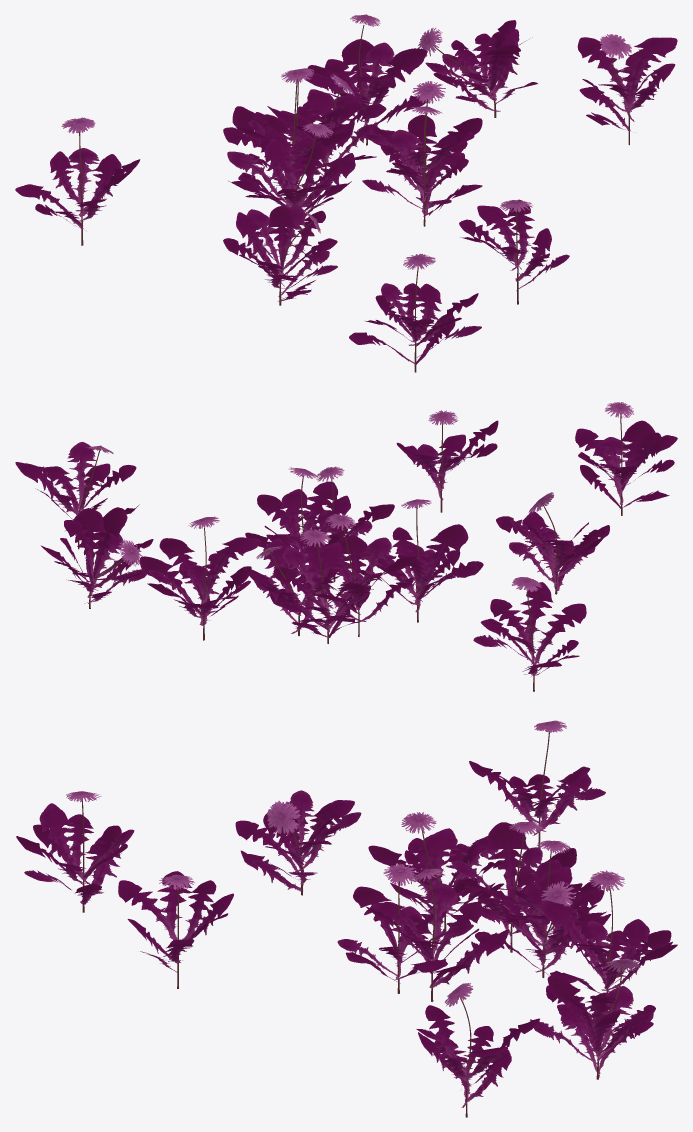
3 views of the same model, one above another, from view 1: azimuth 30°, elevation 25°; view 2: azimuth 150°, elevation 25°; view 3: azimuth 270°, elevation 25° (orthographic). The views are drawn at different scales.
Visible parts, largest first — view 1: SM_GF_Dandelion_03_LOD0; view 2: SM_GF_Dandelion_03_LOD0; view 3: SM_GF_Dandelion_03_LOD0.
Part boxes in pixels (bbox=[...]): SM_GF_Dandelion_03_LOD0: bbox=[15, 14, 677, 372]; SM_GF_Dandelion_03_LOD0: bbox=[15, 402, 677, 691]; SM_GF_Dandelion_03_LOD0: bbox=[16, 720, 677, 1117].
Bounding box in the file's own units: 1.29 × 0.2576 × 1.12.
1 material, 1 textured.
